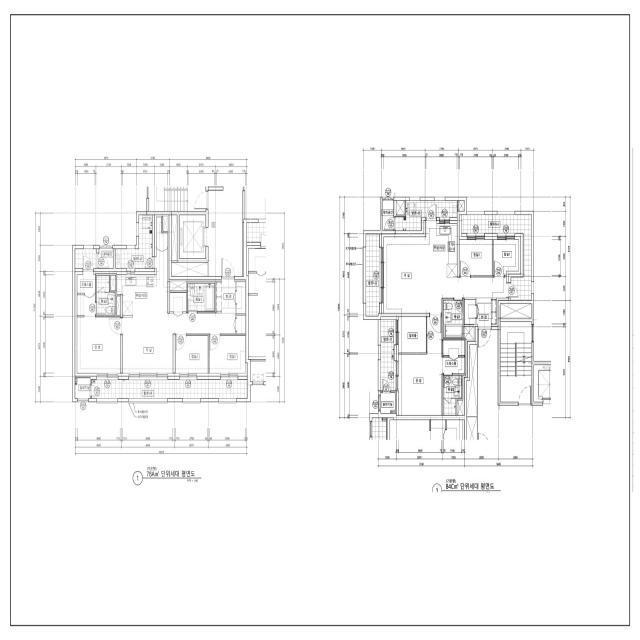space_balconi: (462, 215, 531, 300), (92, 380, 247, 398), (116, 215, 152, 268), (396, 201, 457, 230), (366, 234, 379, 316), (381, 320, 394, 391)
space_bedroom: (399, 317, 442, 415), (77, 317, 120, 373), (209, 336, 245, 373), (176, 336, 208, 373), (460, 240, 492, 275), (493, 240, 519, 275)
space_dressroom: (77, 272, 95, 315), (443, 340, 465, 374)
space_elevator: (180, 215, 206, 259)
space_elevator_hall: (208, 191, 243, 276)
space_front: (216, 278, 236, 313), (477, 298, 496, 324)
space_kitchen: (117, 217, 167, 314), (426, 221, 457, 278)
space_living_room: (384, 237, 506, 313), (123, 313, 236, 373)
space_multipurpose_space: (399, 317, 426, 352)
space_other: (75, 249, 113, 268), (467, 345, 477, 417), (172, 262, 208, 276), (500, 304, 531, 318), (170, 293, 187, 311), (383, 201, 393, 230), (465, 300, 476, 324), (237, 282, 245, 314), (172, 215, 177, 261), (170, 282, 187, 291), (237, 316, 245, 334), (464, 326, 474, 339), (396, 201, 405, 215), (457, 400, 463, 415), (111, 275, 116, 290), (163, 217, 168, 231), (117, 296, 120, 315), (459, 201, 464, 211)
space_outdoor_room: (381, 393, 395, 413)
space_staircase: (501, 322, 531, 402)
space_toilet: (443, 300, 463, 338), (443, 375, 462, 415), (188, 283, 215, 311), (97, 275, 115, 315)
